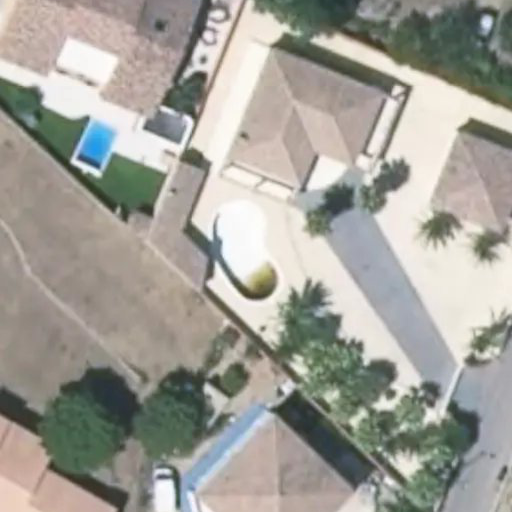pool: (215, 205, 290, 284)
